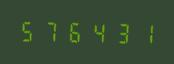five: (17, 18, 39, 43)
four: (87, 20, 109, 44)
one: (133, 20, 155, 45)
seven: (40, 19, 62, 43)
six: (64, 19, 86, 43)
three: (110, 20, 132, 44)
